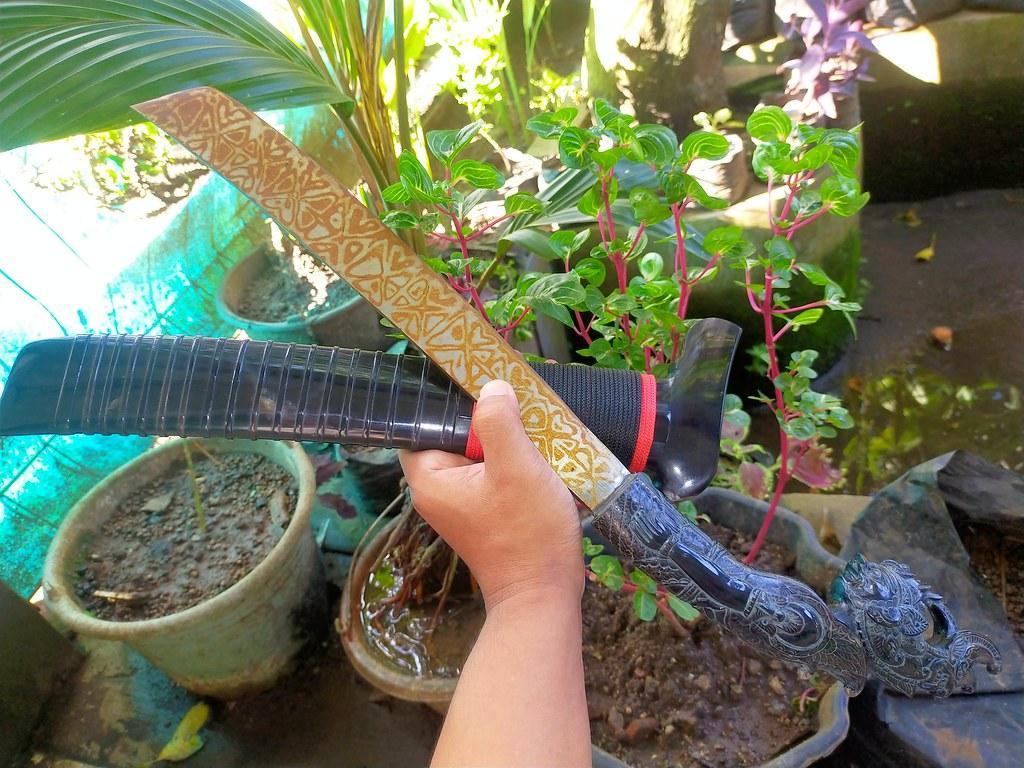facao: (133, 87, 833, 660)
